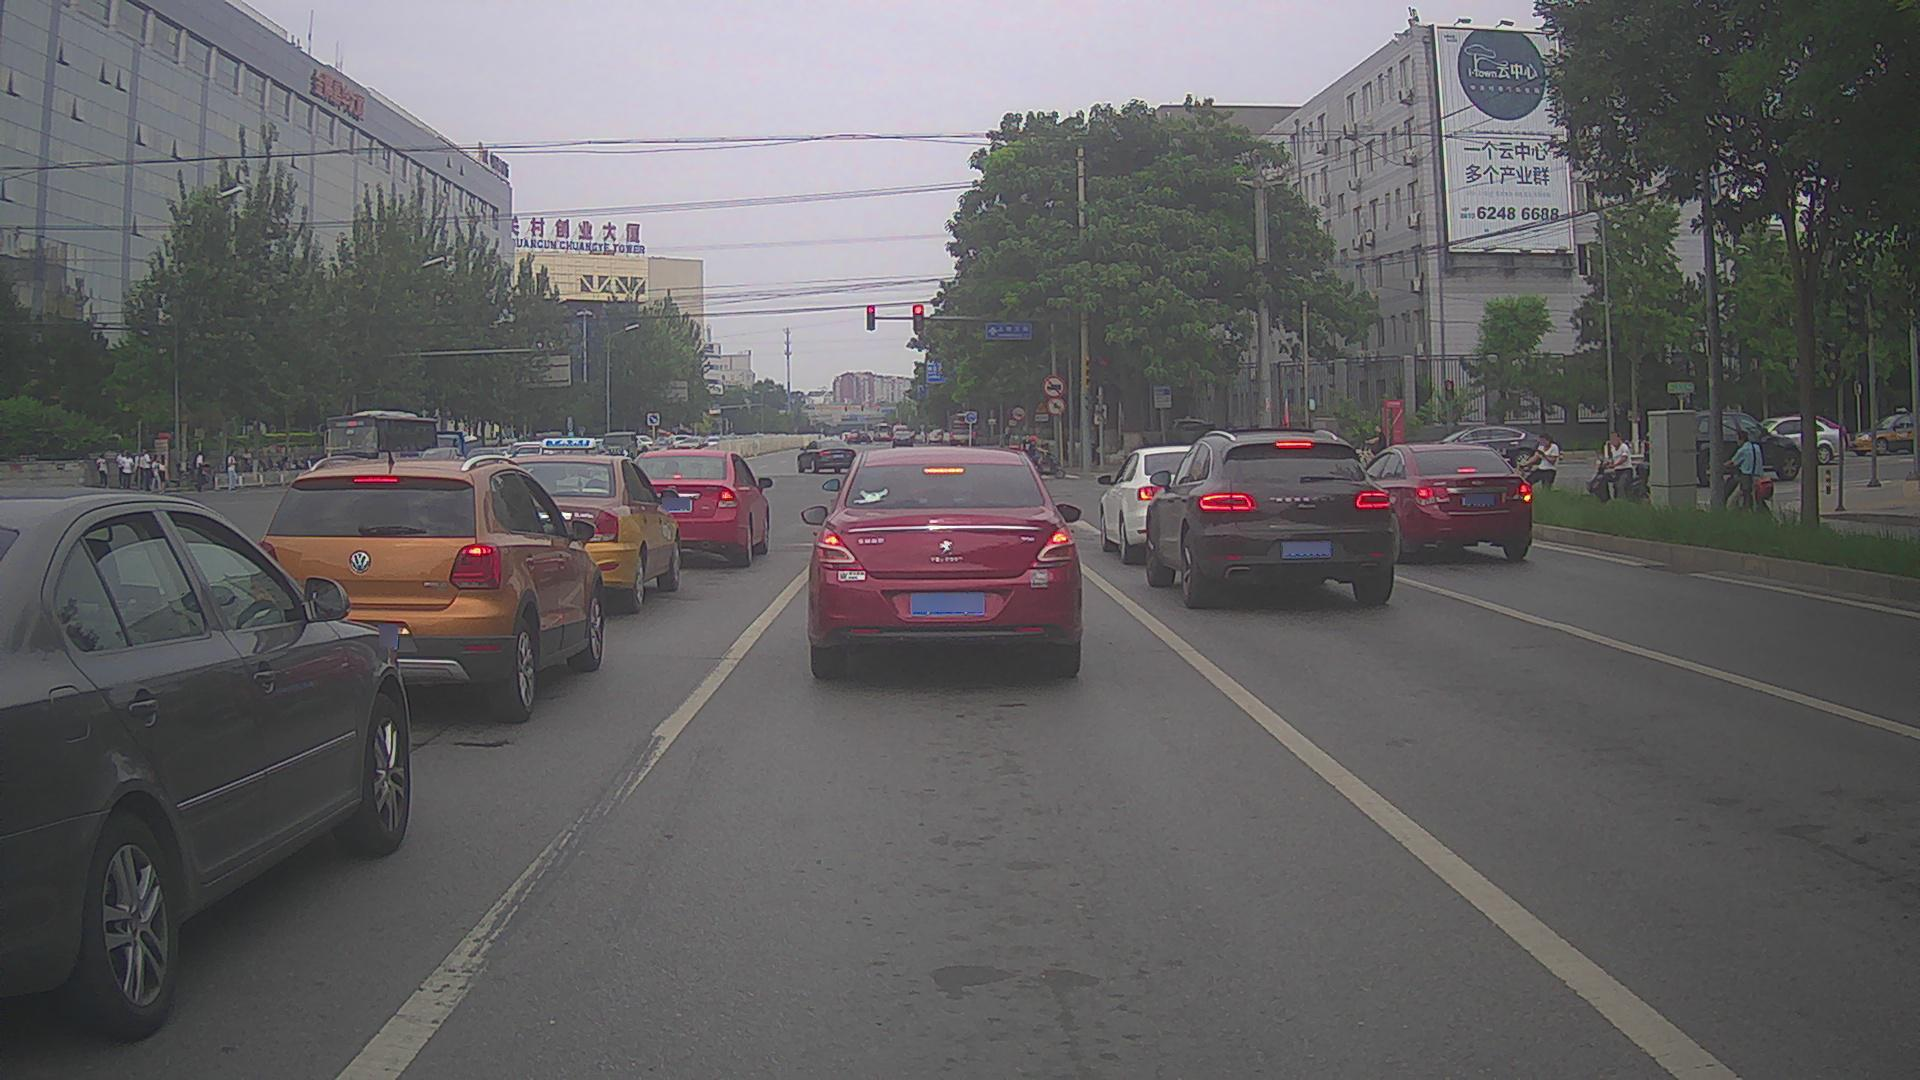bus: (318, 409, 438, 483), (947, 412, 978, 444), (871, 421, 893, 442)
car: (0, 486, 412, 1041), (248, 453, 604, 723), (801, 446, 1082, 677), (1145, 428, 1394, 609), (473, 437, 681, 614), (1346, 441, 1533, 559), (620, 448, 773, 567), (1097, 445, 1238, 564), (1643, 411, 1803, 487), (1416, 424, 1560, 473), (1740, 415, 1846, 464), (1847, 406, 1918, 455), (796, 438, 856, 472), (891, 429, 915, 449), (927, 428, 944, 445), (844, 430, 860, 444), (856, 431, 870, 444)
cyclist: (1355, 423, 1397, 471)
ignore: (115, 447, 167, 494), (635, 434, 722, 451)
motorcyclist: (1708, 430, 1773, 524), (1584, 430, 1653, 506), (1021, 434, 1066, 479)
pedestrian: (1518, 432, 1560, 501), (193, 450, 207, 491), (1019, 432, 1035, 469), (1087, 423, 1100, 466), (225, 447, 238, 492), (96, 453, 109, 488), (241, 446, 253, 479), (1003, 422, 1011, 446)
truck: (428, 430, 482, 469)
van: (599, 430, 638, 464)
